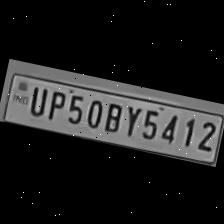0: (82, 94, 106, 128)
1: (175, 113, 197, 148)
2: (192, 114, 220, 152)
4: (154, 106, 180, 144)
5: (136, 103, 162, 141), (61, 89, 87, 125)
B: (98, 97, 124, 133)
P: (42, 84, 67, 122)
U: (23, 82, 49, 116)
Y: (119, 100, 143, 136)
